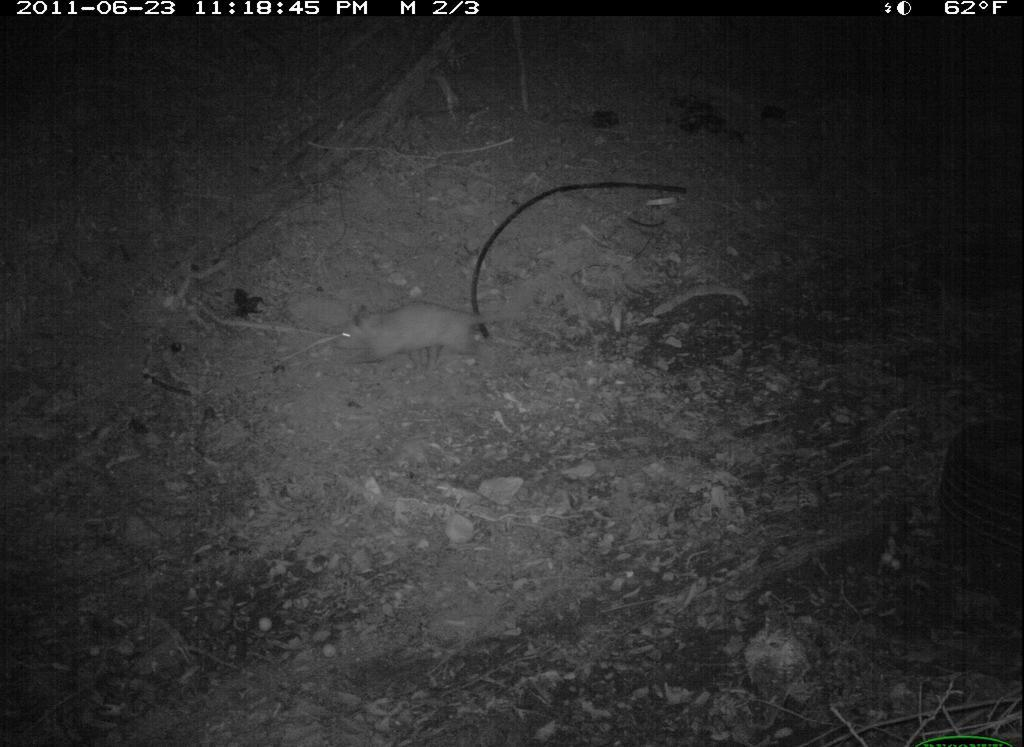opossum: (328, 291, 495, 377)
